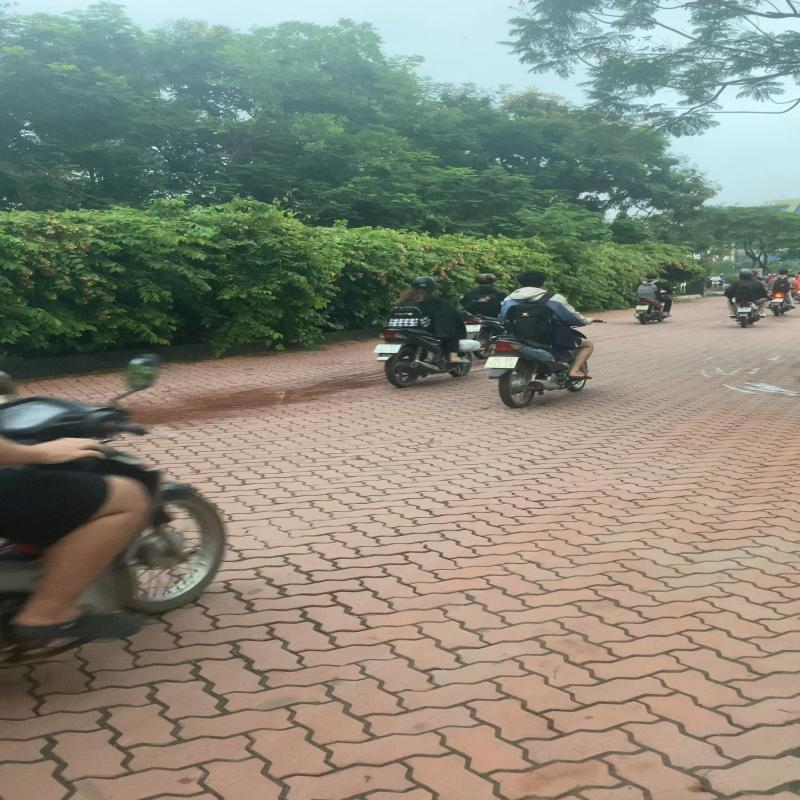licenseplate: (483, 356, 518, 368)
motorcyclist: (482, 270, 607, 407)
nohelmet: (515, 270, 546, 288)
